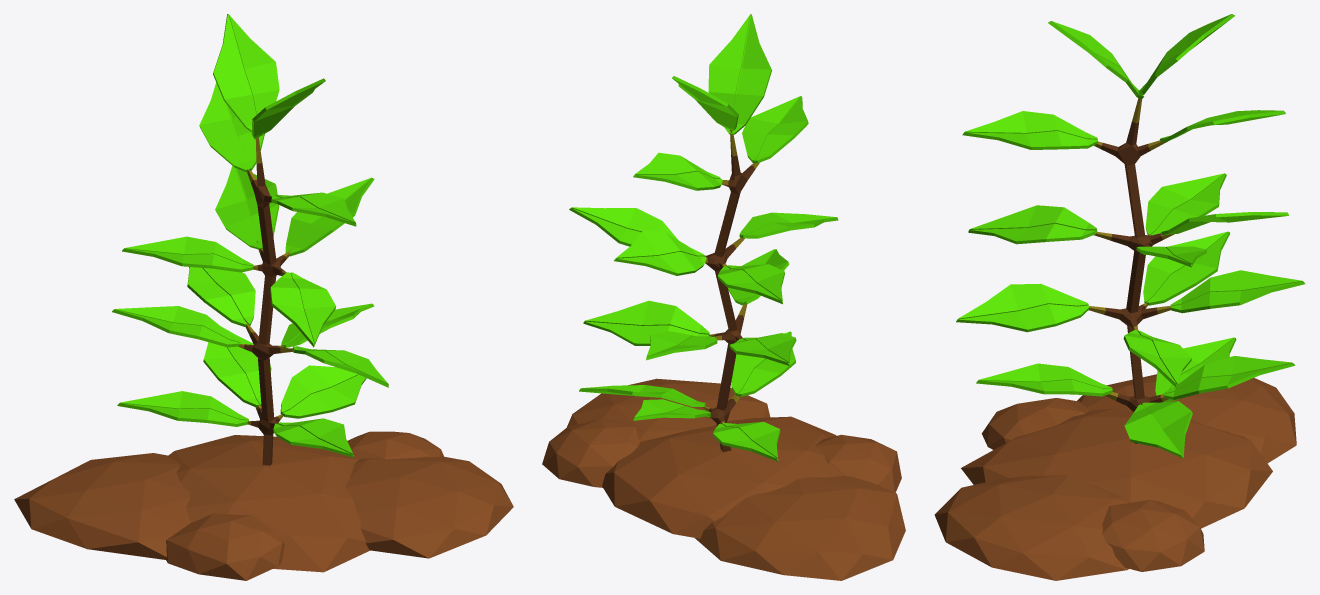
File: coffee_tree_joined.glb
The picture shows the model from 3 angles, left to right: view 1: azimuth 30°, elevation 25°; view 2: azimuth 150°, elevation 25°; view 3: azimuth 270°, elevation 25°; orthographic projection. The views are drawn at different scales.
Visible parts, largest first — view 1: coffee_tree; view 2: coffee_tree; view 3: coffee_tree.
Part boxes in pixels (x1=…): coffee_tree: x1=14, y1=14, x2=513, y2=580; coffee_tree: x1=542, y1=14, x2=905, y2=580; coffee_tree: x1=934, y1=14, x2=1305, y2=580.
Bounding box in the file's own units: 3.2 × 3.53 × 2.48.
